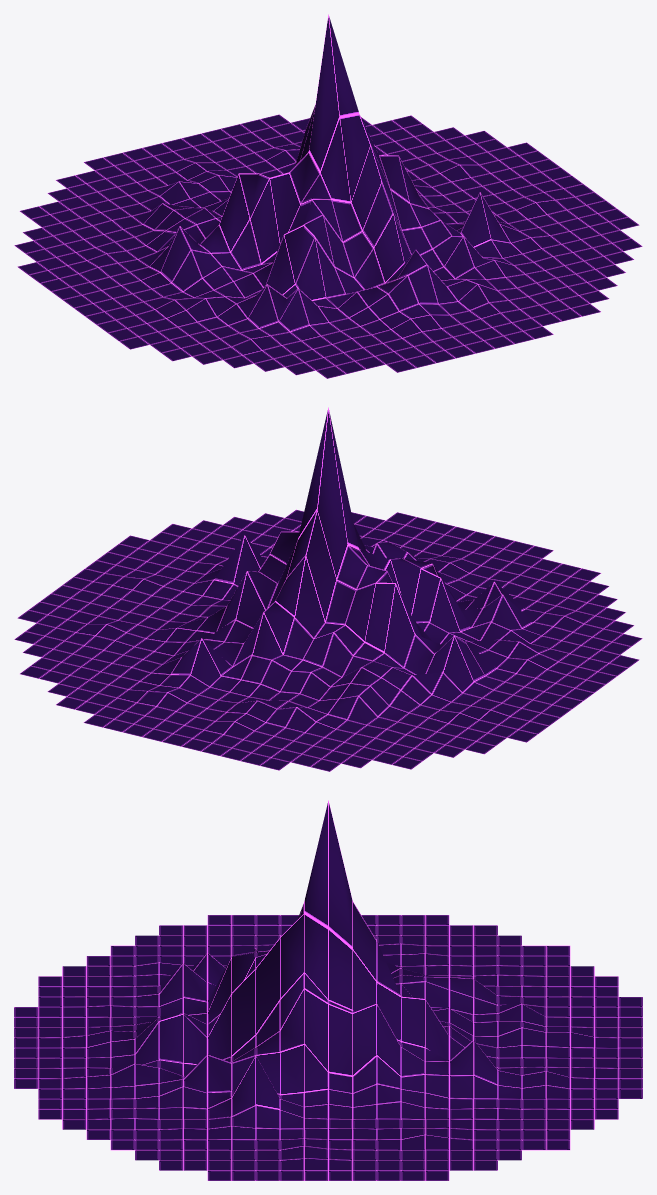
The picture shows the model from 3 angles, top to bottom: view 1: azimuth 30°, elevation 25°; view 2: azimuth 150°, elevation 25°; view 3: azimuth 270°, elevation 25°; orthographic projection. The views are drawn at different scales.
Visible parts, largest first — view 1: Plane.001; view 2: Plane.001; view 3: Plane.001.
Boxes of the visible parts, x1,y1,x2,y2 form: Plane.001: (14, 14, 642, 378); Plane.001: (14, 407, 642, 771); Plane.001: (14, 800, 642, 1180).
Bounding box in the file's own units: 2.03 × 0.8835 × 2.03.
